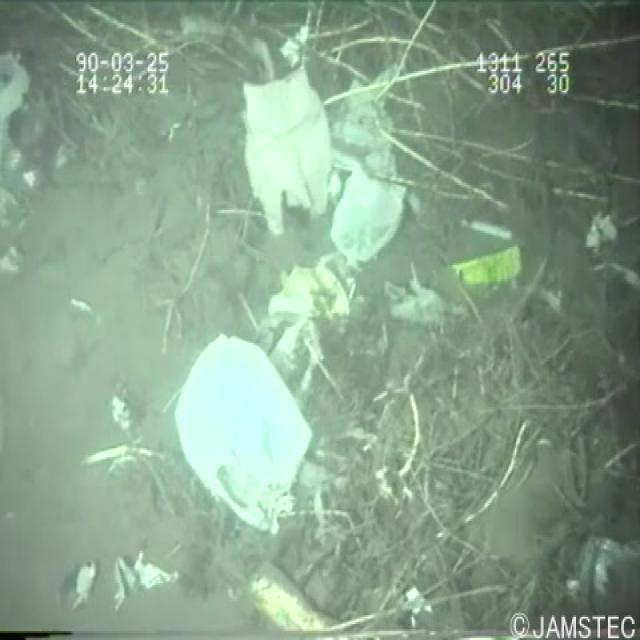plastic: (236, 58, 408, 276), (169, 324, 319, 544)
